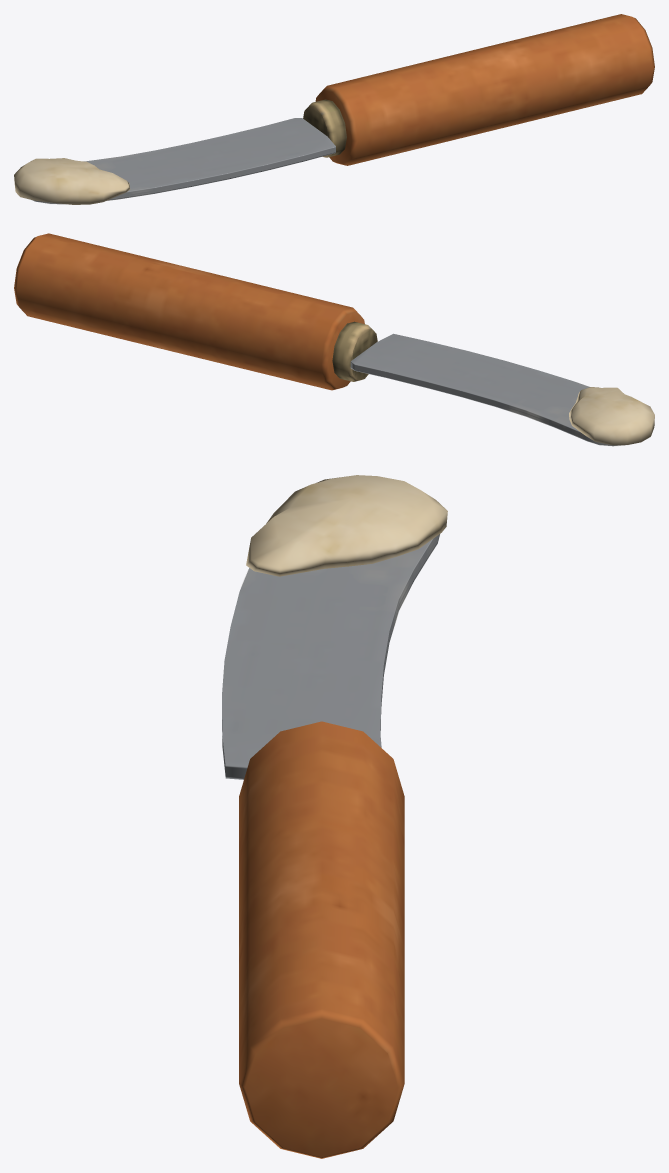
Rendered from pi_knife01_horseradish.gltf.
The picture shows the model from 3 angles, top to bottom: view 1: azimuth 30°, elevation 25°; view 2: azimuth 150°, elevation 25°; view 3: azimuth 270°, elevation 25°; orthographic projection. The views are drawn at different scales.
Parts seen in each view (by area): view 1: um_pi_knife01_horseradish_model_pi_knife01_horseradish_model (×2); view 2: um_pi_knife01_horseradish_model_pi_knife01_horseradish_model (×2); view 3: um_pi_knife01_horseradish_model_pi_knife01_horseradish_model (×2).
Boxes of the visible parts, <box> form: um_pi_knife01_horseradish_model_pi_knife01_horseradish_model (×2): <box>14,14,654,204</box>; um_pi_knife01_horseradish_model_pi_knife01_horseradish_model (×2): <box>14,233,654,446</box>; um_pi_knife01_horseradish_model_pi_knife01_horseradish_model (×2): <box>222,475,447,1158</box>.
Bounding box in the file's own units: 0.1991 × 0.0235 × 0.0322.
Materials: 3 (3 with a texture image).
